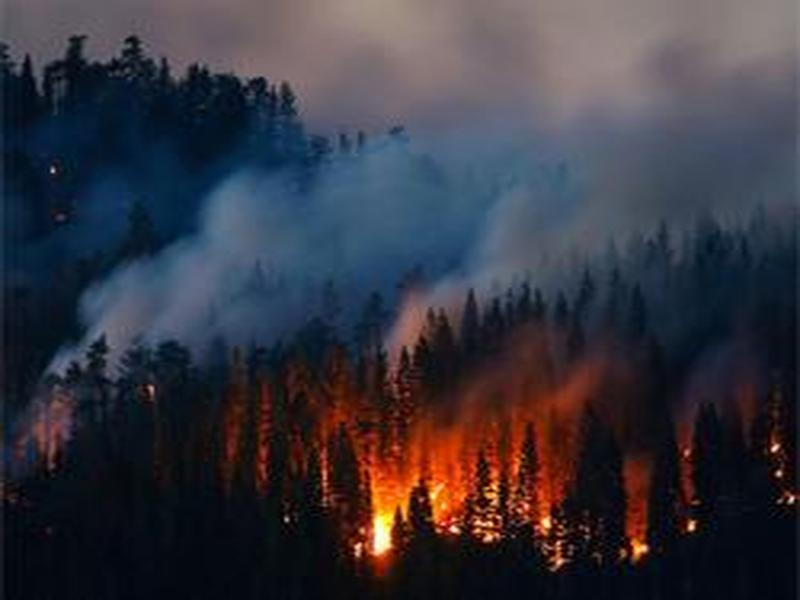FIRE: (194, 394, 587, 574)
